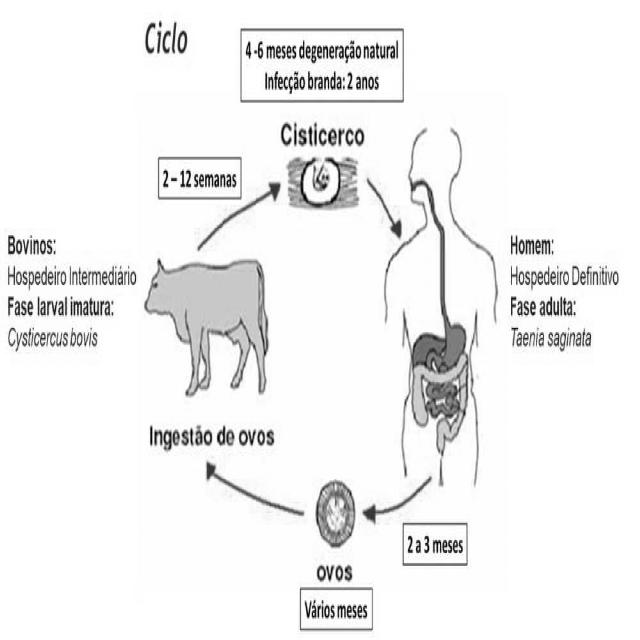Taenia Sp: (313, 468, 356, 558)
